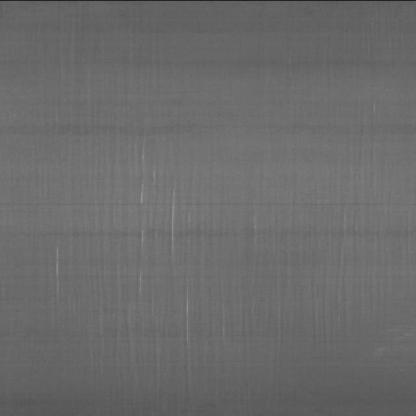waist_folding: (18, 172, 322, 379)
